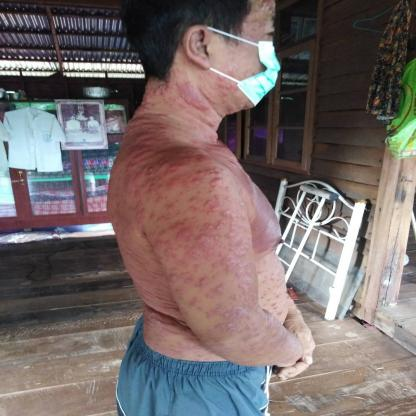Leprosy: (220, 213, 257, 280), (126, 119, 176, 162), (176, 79, 217, 113), (175, 224, 215, 252), (207, 304, 254, 325), (184, 197, 223, 220), (122, 165, 149, 194), (199, 280, 231, 303), (182, 145, 217, 165), (131, 200, 155, 225), (202, 170, 232, 185)
